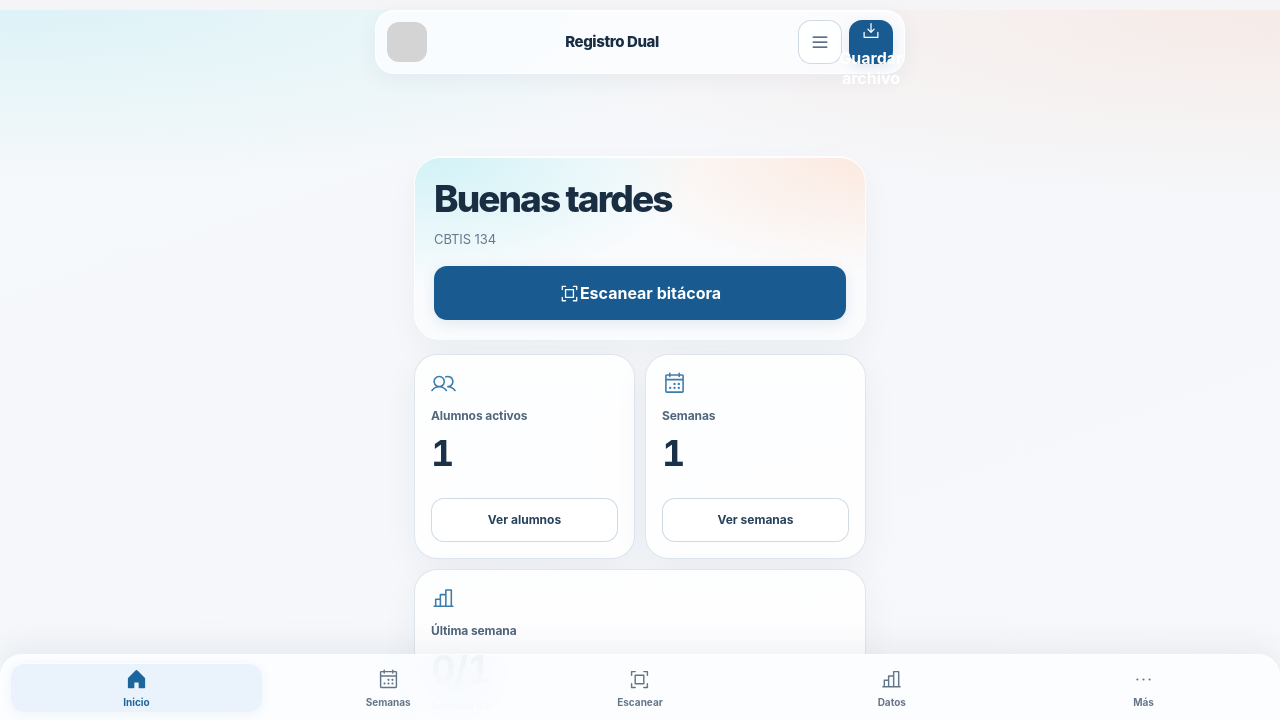
v0.57 experiencia Registro Dual A+E › permite escoger escritorio y retornar a móvil guardando la preferencia
Click the button "Más".
click(1144, 688)  # box [1018,663,1269,712]
(page scrolled)
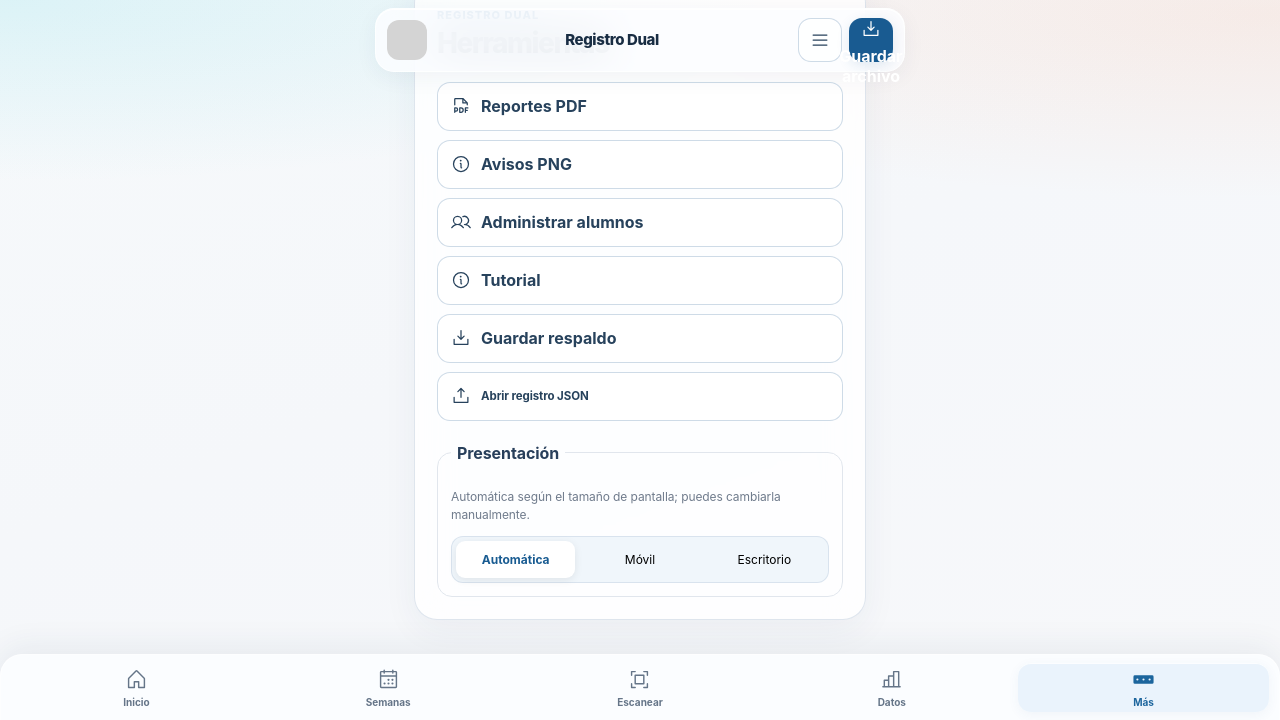
Click the button "Escritorio".
click(764, 559)  # box [705,540,824,578]
(page scrolled)
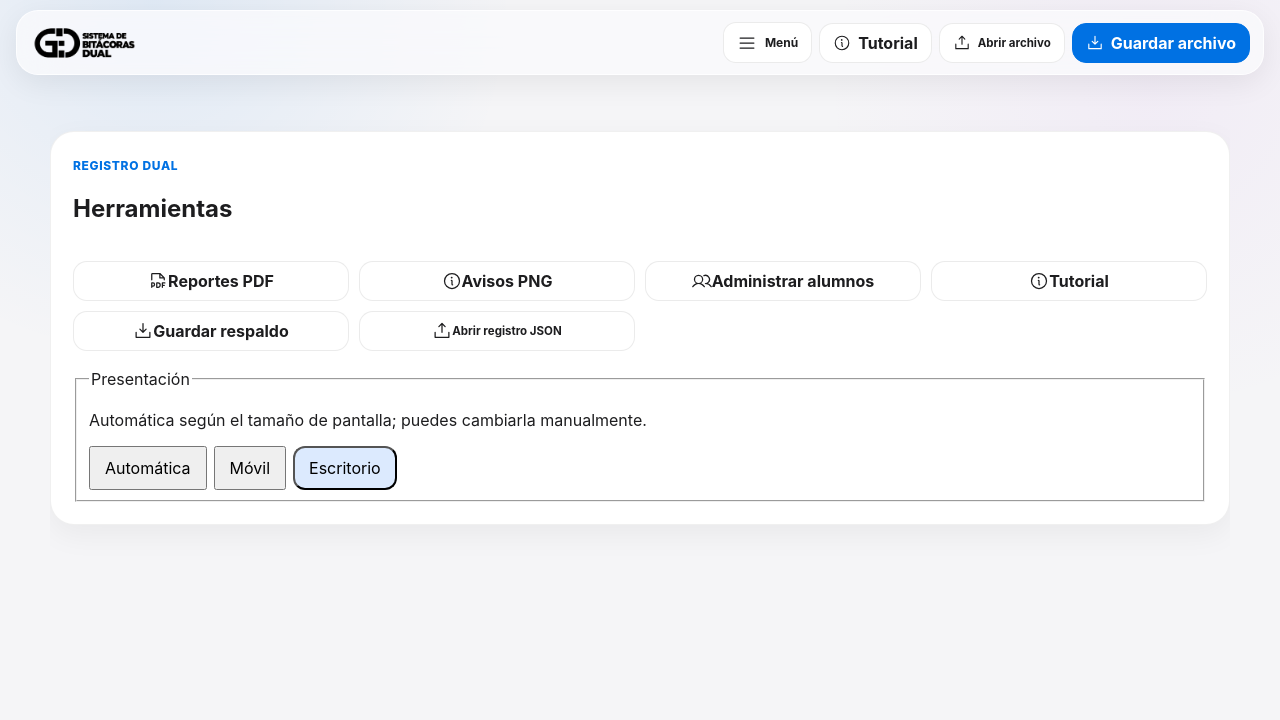
Expected: the element with class "delivery-layout-desktop" is shown
Click the button "Móvil".
click(250, 468)  # box [214,446,286,490]
(page scrolled)
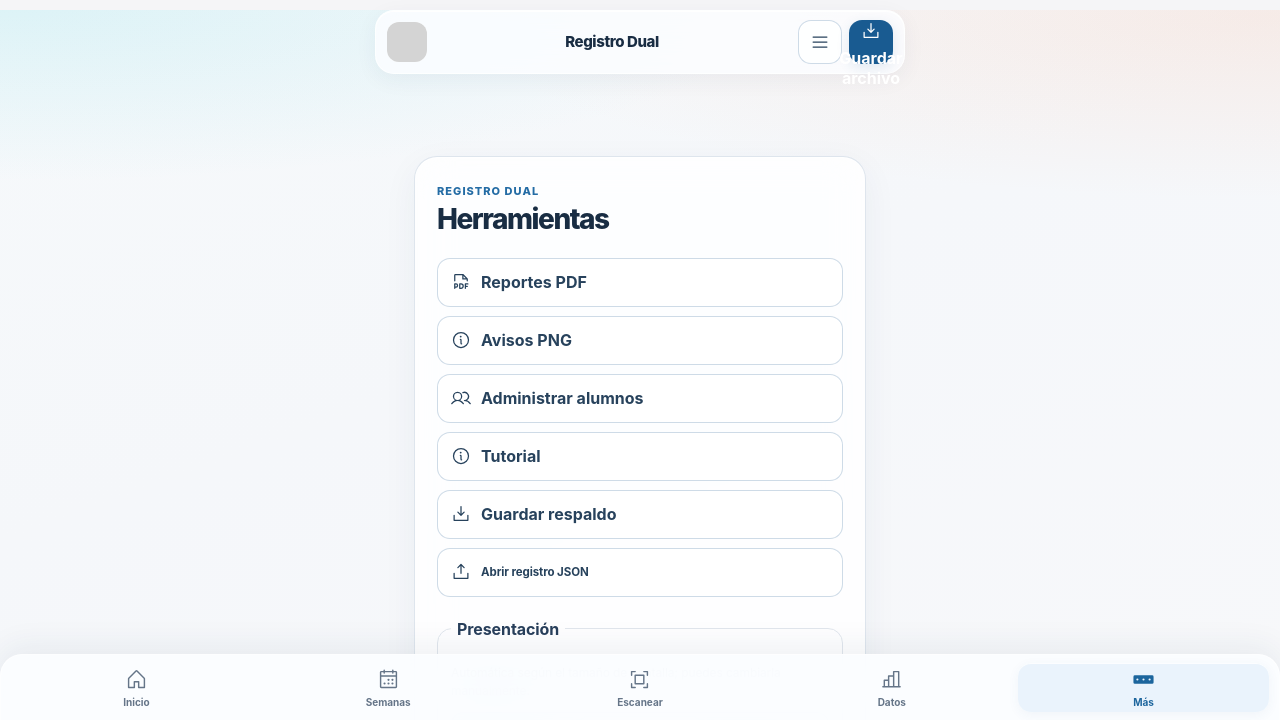
Expected: the navigation bar named "Navegación móvil" is shown, [0,654,1279,719]
